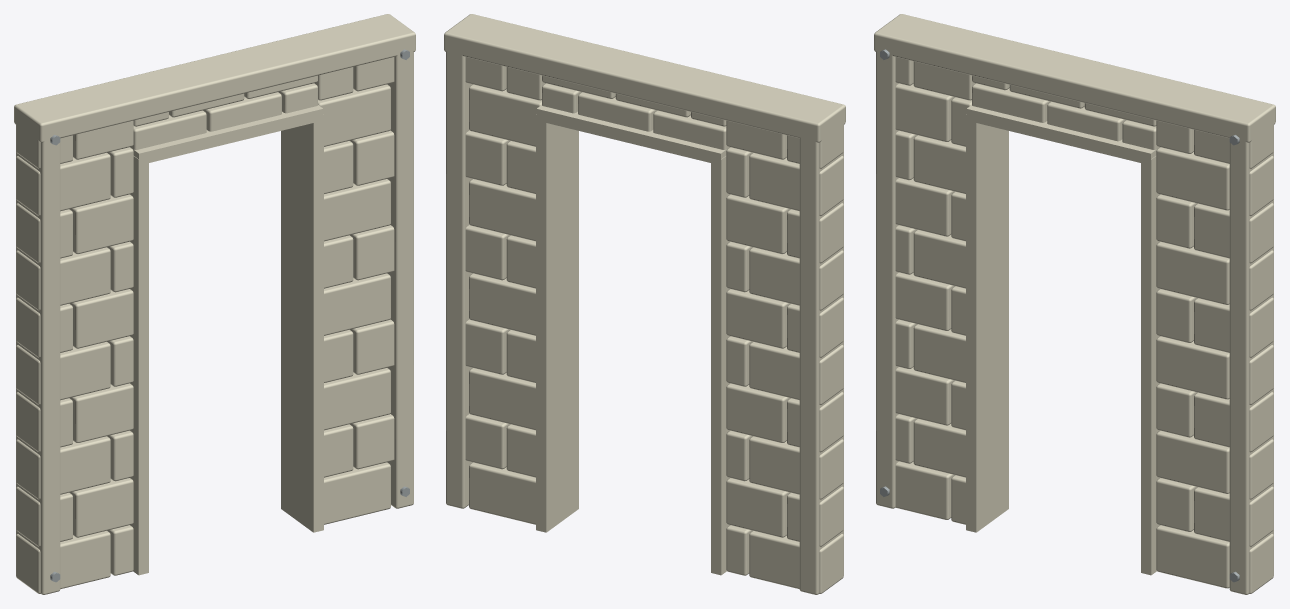
The model's file is rural-scavenging-settlements-stone-cottage-entry-wall-8ebae043__26457.glb.
3 views of the same model, side by side, from view 1: azimuth 30°, elevation 25°; view 2: azimuth 150°, elevation 25°; view 3: azimuth 330°, elevation 25° (orthographic).
Parts seen in each view (by area): view 1: stone-cottage-entry-wall; view 2: stone-cottage-entry-wall; view 3: stone-cottage-entry-wall.
Boxes of the visible parts, x1,y1,x2,y2 form: stone-cottage-entry-wall: (14, 14, 415, 594); stone-cottage-entry-wall: (444, 14, 845, 594); stone-cottage-entry-wall: (874, 14, 1275, 594).
Size of the model in its own units: 2 by 2.4 by 0.3.
